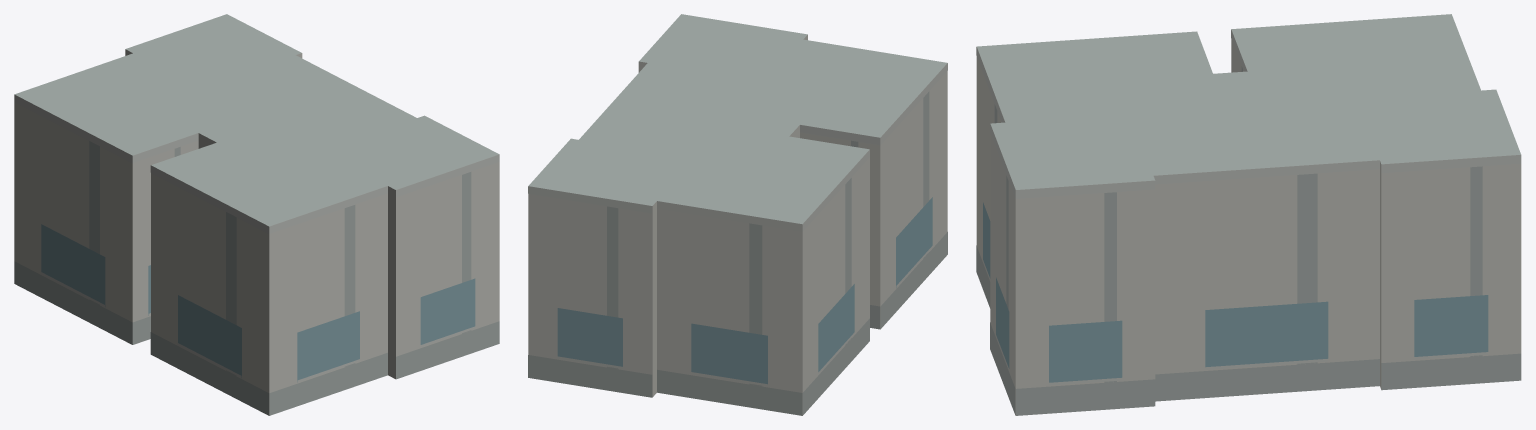
The model's file is residential-8f8f52c9-a8fe-44e8-8e70-54d69113d25b.glb.
The picture shows the model from 3 angles, left to right: view 1: azimuth 30°, elevation 25°; view 2: azimuth 150°, elevation 25°; view 3: azimuth 270°, elevation 25°; orthographic projection. The views are drawn at different scales.
Parts seen in each view (by area): view 1: residential-8f8f52c9-a8fe-44e8-8e70-54d69113d25b.tmp; view 2: residential-8f8f52c9-a8fe-44e8-8e70-54d69113d25b.tmp; view 3: residential-8f8f52c9-a8fe-44e8-8e70-54d69113d25b.tmp.
Boxes of the visible parts, x1=… form: residential-8f8f52c9-a8fe-44e8-8e70-54d69113d25b.tmp: x1=14, y1=14, x2=499, y2=415; residential-8f8f52c9-a8fe-44e8-8e70-54d69113d25b.tmp: x1=528, y1=14, x2=947, y2=415; residential-8f8f52c9-a8fe-44e8-8e70-54d69113d25b.tmp: x1=976, y1=14, x2=1521, y2=415.
Bounding box in the file's own units: 10.21 × 6.1 × 13.35.
